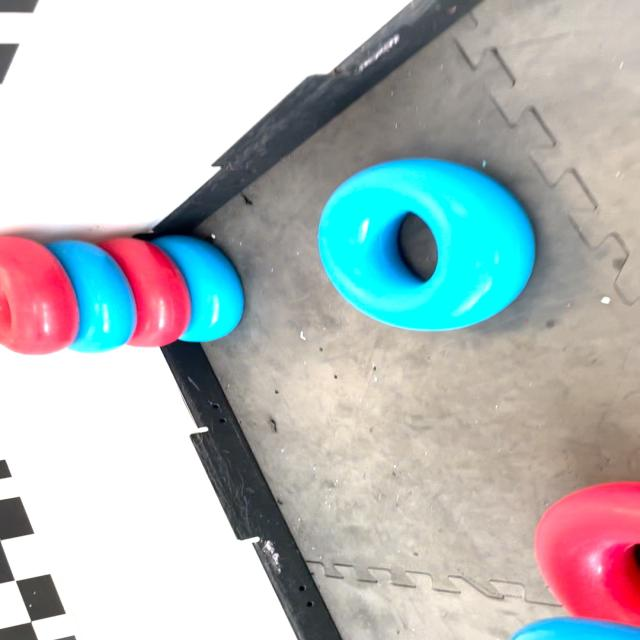Blue-Ring: (318, 159, 536, 331), (47, 240, 136, 352), (151, 235, 244, 342)
Red-Ring: (533, 481, 640, 626), (98, 238, 191, 348), (0, 236, 78, 355)
